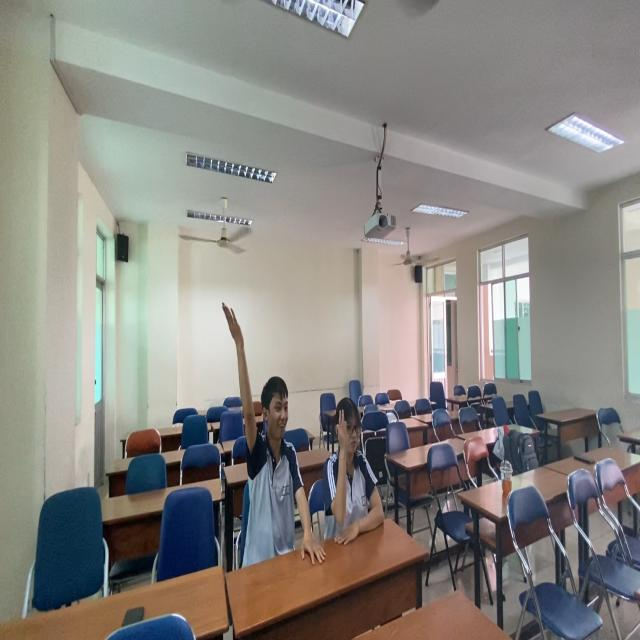raise_hand: (221, 294, 317, 556), (329, 392, 394, 550)
